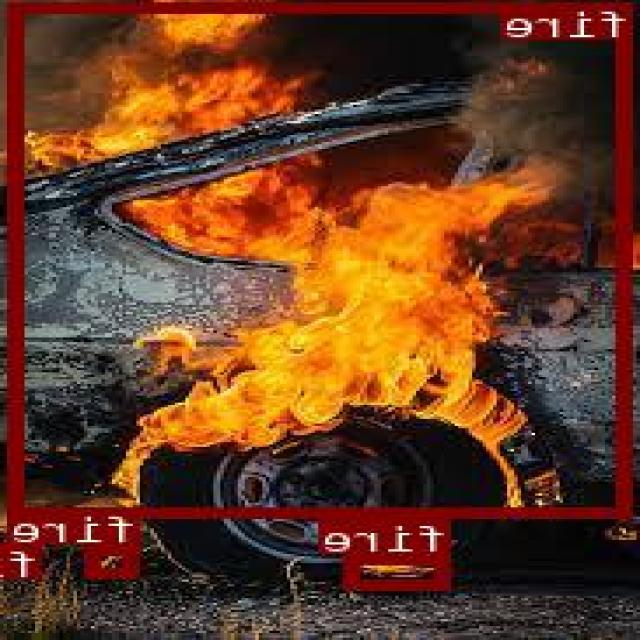fire: (10, 1, 636, 516), (349, 552, 454, 587), (90, 543, 141, 575), (11, 541, 43, 573)
